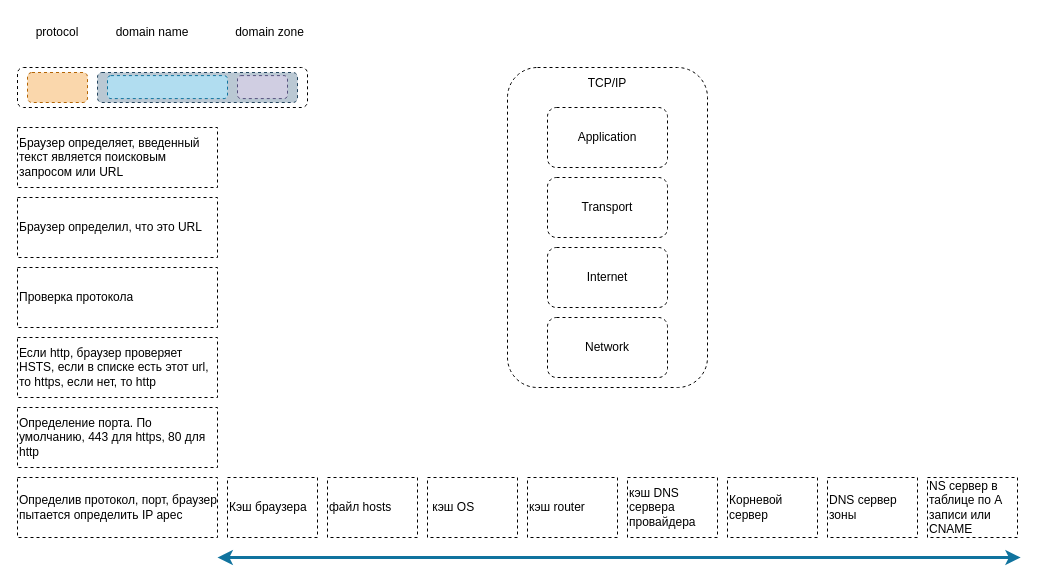
Image size: 1049x585. Some labels were removed from this diagram. The shapes that lost their labels are listed below. From the top down, each one's box as (x1, y1, x2, y2) in pixels, then its label:
(26, 72, 88, 102): https://
(106, 75, 228, 99): google
(236, 75, 288, 99): .com
